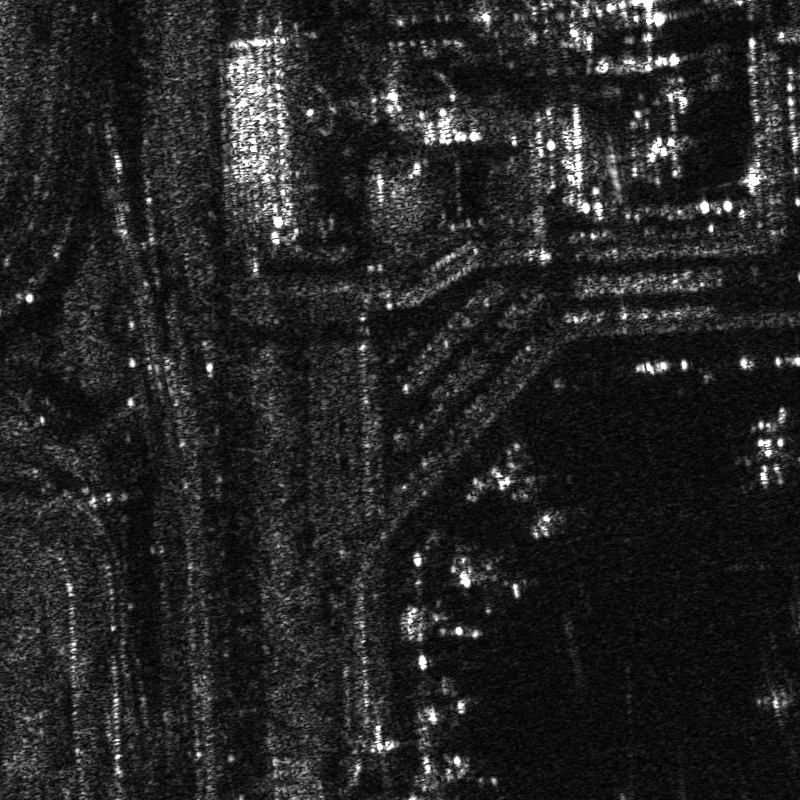A220: (493, 463, 584, 545), (443, 544, 540, 620)
Boeing737: (729, 408, 799, 492)
